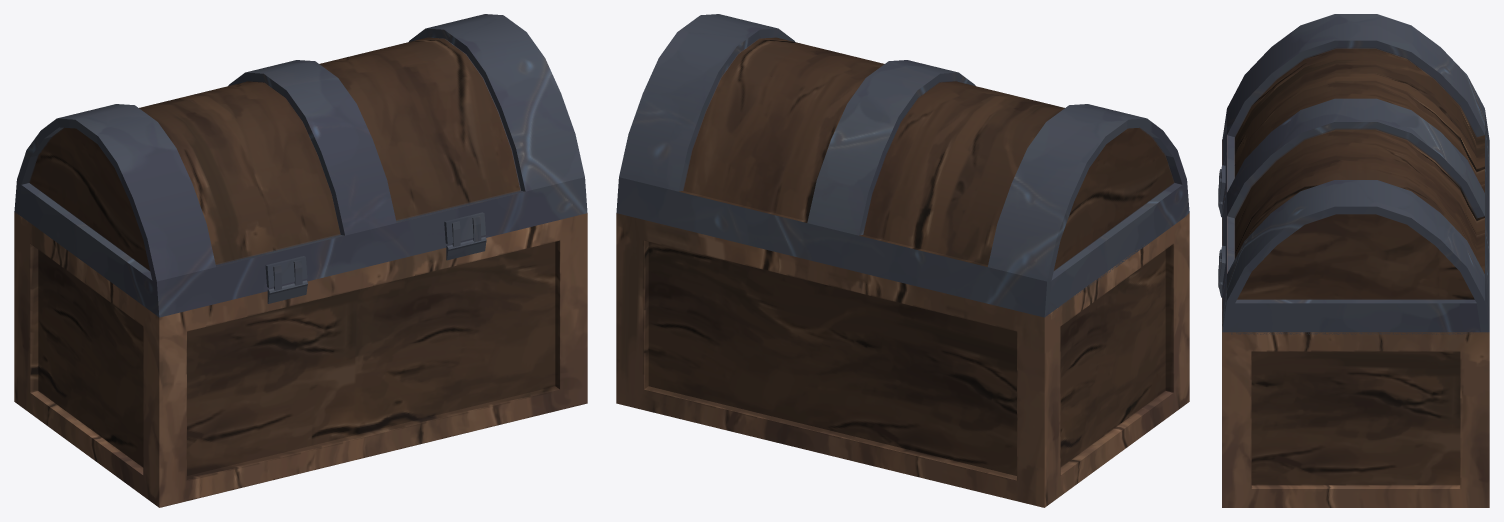
File: Chest.fbx
3 views of the same model, side by side, from view 1: azimuth 30°, elevation 25°; view 2: azimuth 150°, elevation 25°; view 3: azimuth 270°, elevation 25° (orthographic). The views are drawn at different scales.
Visible parts, largest first — view 1: Chest; view 2: Chest; view 3: Chest.
Boxes of the visible parts, left/top/right/bottom form: Chest: left=14, top=14, right=587, bottom=507; Chest: left=616, top=14, right=1189, bottom=507; Chest: left=1218, top=14, right=1489, bottom=507.
Size of the model in its own units: 1.08 by 0.7903 by 0.6454.
